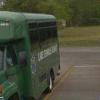Bus: (1, 4, 65, 99)
